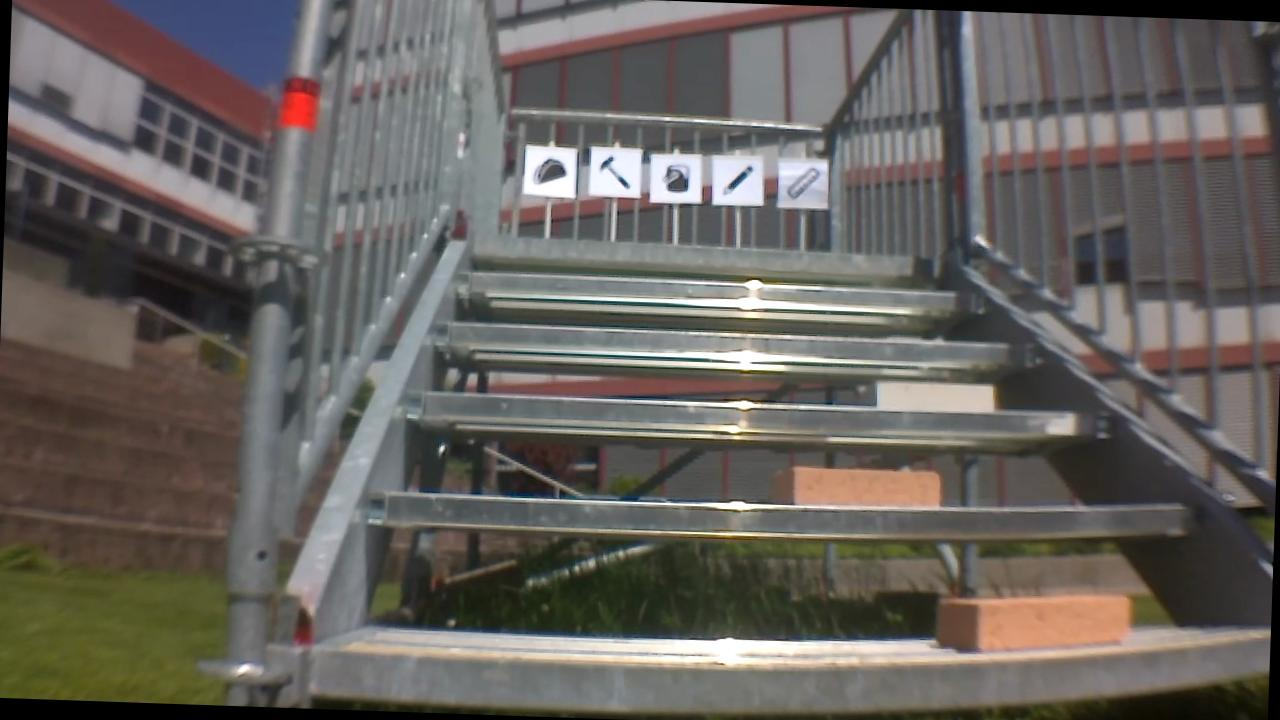brick: (935, 580, 1135, 656), (771, 462, 943, 512), (862, 377, 998, 415)
edge: (306, 594, 1271, 720), (354, 469, 1190, 558), (401, 386, 1123, 448), (430, 321, 1043, 371), (440, 274, 989, 318), (463, 239, 960, 282)
steps: (276, 237, 1280, 720)
